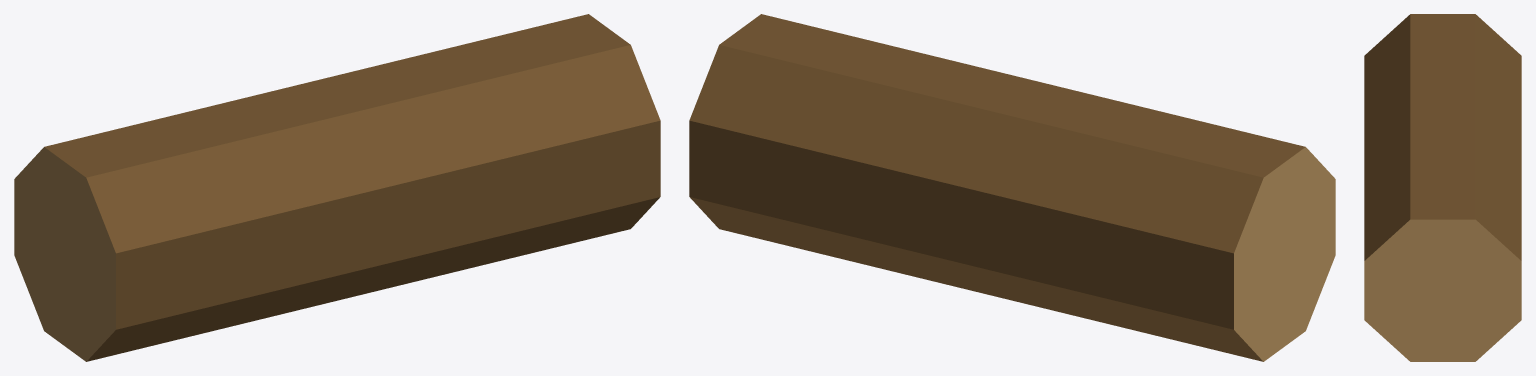
Rendered from item_rm_logs_a.obj.
The picture shows the model from 3 angles, left to right: view 1: azimuth 30°, elevation 25°; view 2: azimuth 150°, elevation 25°; view 3: azimuth 270°, elevation 25°; orthographic projection. The views are drawn at different scales.
Size of the model in its own units: 0.6 by 0.194 by 0.194.
